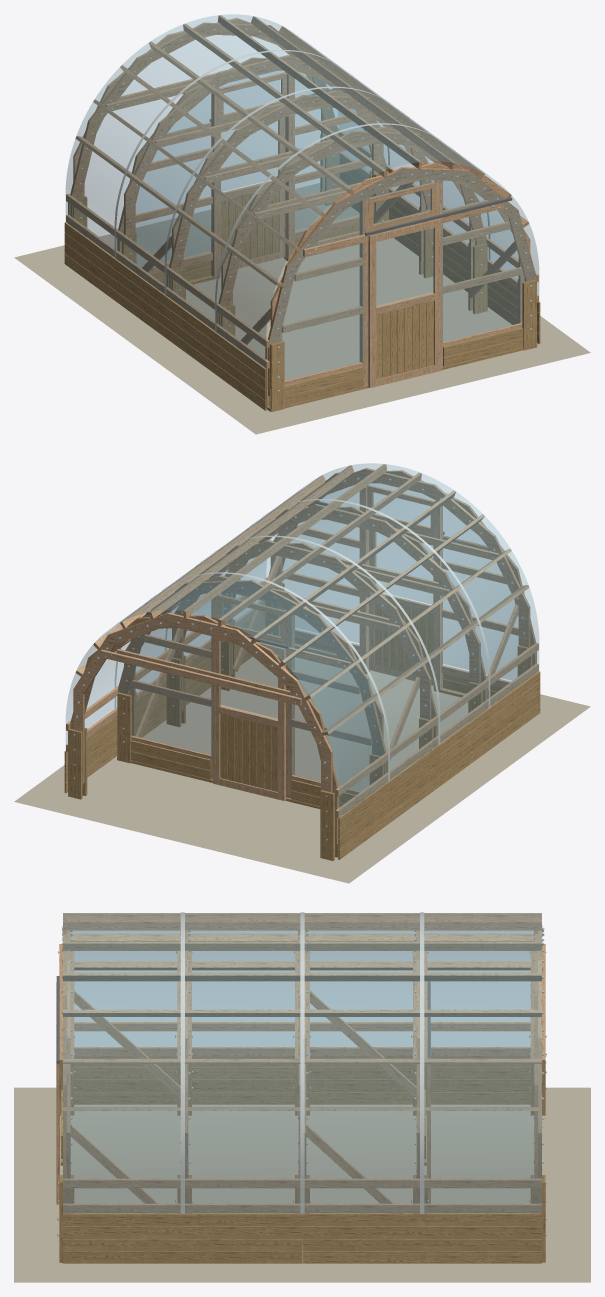
Rendered from greenhouse-photo.glb.
The picture shows the model from 3 angles, top to bottom: view 1: azimuth 30°, elevation 25°; view 2: azimuth 150°, elevation 25°; view 3: azimuth 270°, elevation 25°; orthographic projection. The views are drawn at different scales.
Visible parts, largest first — view 1: lightmapped, greenhouse; view 2: lightmapped, greenhouse; view 3: lightmapped, greenhouse.
Part boxes in pixels (x1,y1,x2,y2): lightmapped: [14, 15, 590, 434]; greenhouse: [66, 14, 538, 392]; lightmapped: [14, 464, 590, 883]; greenhouse: [66, 463, 538, 840]; lightmapped: [14, 913, 590, 1282]; greenhouse: [56, 912, 546, 1236].
Bounding box in the file's own units: 4.7 × 2.87 × 5.88.
10 materials, 7 textured.
